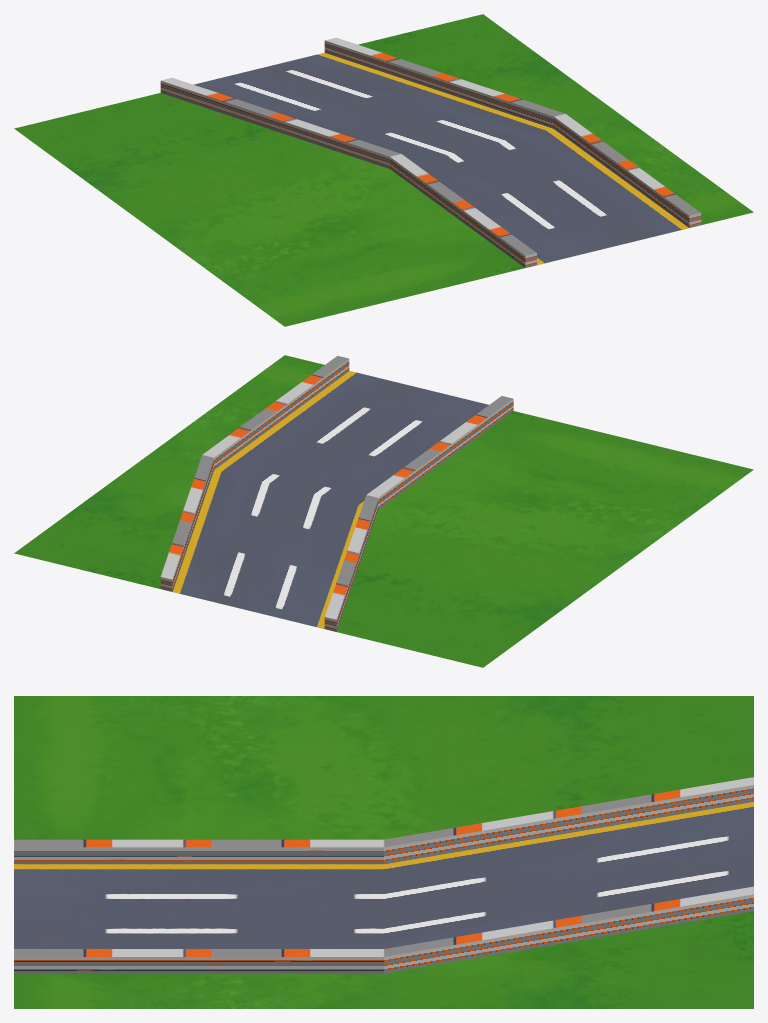
File: road_002.FBX
3 renders of one model, top to bottom at view 1: azimuth 30°, elevation 25°; view 2: azimuth 150°, elevation 25°; view 3: azimuth 270°, elevation 25°, orthographic. The views are drawn at different scales.
Visible parts, largest first — view 1: Plane002, Plane001, Box030, Box031, Box026, Box029; view 2: Plane002, Plane001, Box026, Box029, Box030, Box031; view 3: Plane002, Plane001, Box031, Box030, Box026, Box029.
Boxes of the visible parts, box(x1,y1,x2,y2) form: Plane002: box(14, 14, 753, 326); Plane001: box(194, 52, 688, 264); Box030: box(160, 77, 400, 168); Box031: box(324, 37, 565, 128); Box026: box(390, 154, 536, 267); Box029: box(554, 114, 701, 227); Plane002: box(14, 355, 753, 667); Plane001: box(172, 371, 488, 628); Box026: box(367, 396, 513, 509); Box029: box(202, 356, 349, 469); Box030: box(324, 495, 377, 631); Box031: box(160, 455, 213, 591); Plane002: box(14, 696, 753, 1008); Plane001: box(14, 801, 753, 948); Box031: box(384, 886, 753, 973); Box030: box(384, 777, 753, 863); Box026: box(14, 839, 383, 863); Box029: box(14, 949, 383, 973).
Bounding box in the file's own units: 400 × 10 × 400.
